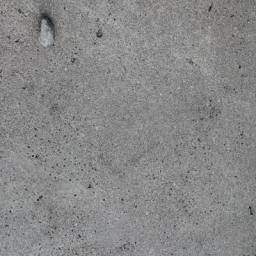FOD: (37, 16, 58, 51)
